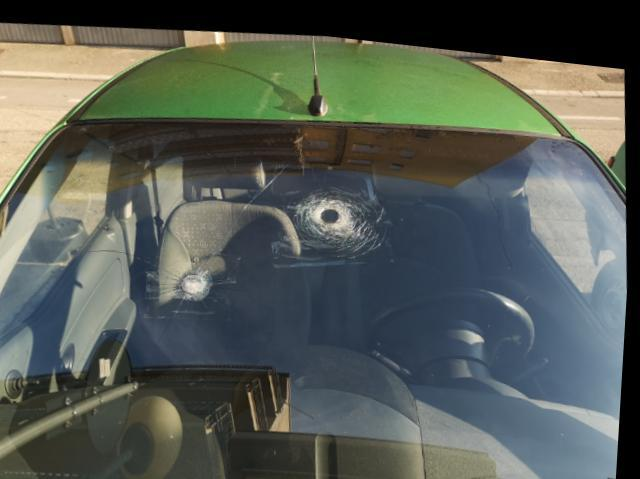glass shatter: (0, 116, 629, 479)
